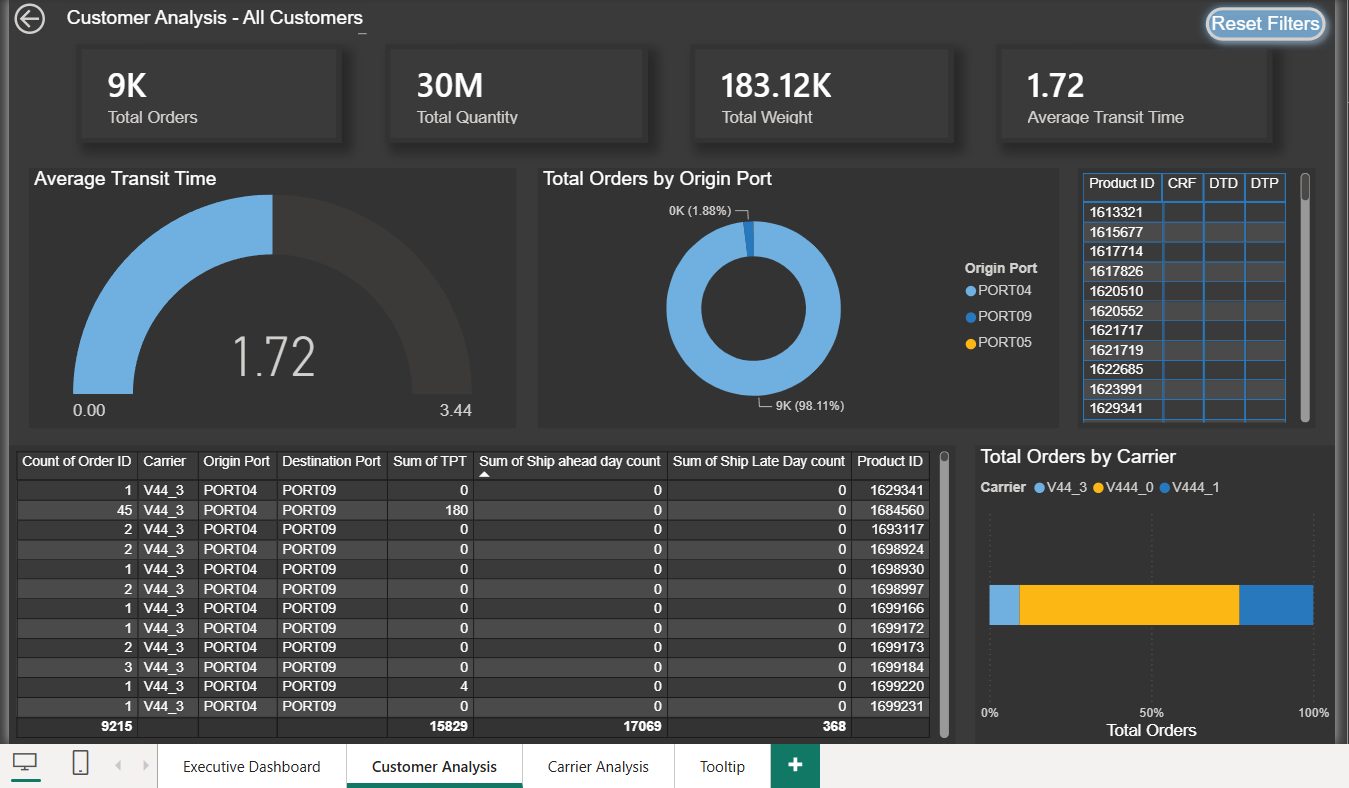

This screenshot's page, from the dashboard's own definition file:
{"tool":"powerbi","page":{"name":"Customer Analysis","canvas":[1280,720],"ordinal":1},"visuals":[{"type":"actionButton","box":[0,0,100,40],"z":0},{"type":"cardVisual","fields":{"Data":["ameasures.Total Orders"]},"box":[65.4,44.6,255.8,95.3],"z":1000},{"type":"cardVisual","fields":{"Data":["ameasures.Total Quantity"]},"box":[362.6,44.6,253.4,95.3],"z":2000},{"type":"cardVisual","fields":{"Data":["ameasures.Total Weight"]},"box":[657.3,44.6,254.6,95.3],"z":3000},{"type":"cardVisual","fields":{"Data":["ameasures.Average Transit Time"]},"box":[953.3,44.6,266.6,95.3],"z":4000},{"type":"pivotTable","fields":{"Rows":["DimProduct.Product ID"],"Columns":["OrderList.Service Level"]},"box":[1031.5,164.1,229.2,250.9],"z":5000},{"type":"hundredPercentStackedBarChart","fields":{"Y":["ameasures.Total Orders"],"Series":["OrderList.Carrier"]},"box":[932.6,431.9,347.5,288.3],"z":6000},{"type":"tableEx","fields":{"Values":["CountNonNull(OrderList.Order ID)","OrderList.Carrier","OrderList.Origin Port","OrderList.Destination Port","Sum(OrderList.TPT)","Sum(OrderList.Ship ahead day count)","Sum(OrderList.Ship Late Day count)","OrderList.Product ID"]},"box":[0,431.9,913.3,288.3],"z":7000},{"type":"donutChart","fields":{"Category":["OrderList.Origin Port"],"Y":["ameasures.Total Orders"]},"box":[510.3,164.1,503.1,250.9],"z":8000},{"type":"gauge","fields":{"Y":["ameasures.Average Transit Time"]},"box":[19.3,164.1,470.5,250.9],"z":9000},{"type":"textbox","box":[50.1,8.6,299.6,31.8],"z":10000},{"type":"actionButton","box":[1146.4,0,133.6,50.1],"z":11000}]}

Visuals, with their boxes on the page's 1280x720 design canvas (x1, y1, x2, y2). These are canvas units, not pixel positions in the 1349x788 screenshot, which may show the page scaled, cropped or inside an application window:
actionButton: bbox=(0, 0, 100, 40)
cardVisual - ameasures.Total Orders: bbox=(65, 45, 321, 140)
cardVisual - ameasures.Total Quantity: bbox=(363, 45, 616, 140)
cardVisual - ameasures.Total Weight: bbox=(657, 45, 912, 140)
cardVisual - ameasures.Average Transit Time: bbox=(953, 45, 1220, 140)
pivotTable - DimProduct.Product ID x OrderList.Service Level: bbox=(1032, 164, 1261, 415)
hundredPercentStackedBarChart - ameasures.Total Orders x OrderList.Carrier: bbox=(933, 432, 1280, 720)
tableEx - CountNonNull(OrderList.Order ID) x OrderList.Carrier: bbox=(0, 432, 913, 720)
donutChart - OrderList.Origin Port x ameasures.Total Orders: bbox=(510, 164, 1013, 415)
gauge - ameasures.Average Transit Time: bbox=(19, 164, 490, 415)
textbox: bbox=(50, 9, 350, 40)
actionButton: bbox=(1146, 0, 1280, 50)
